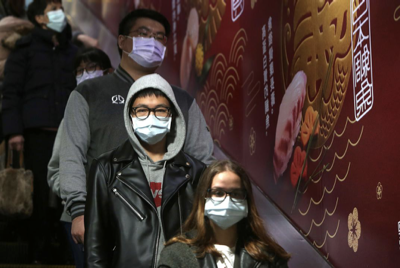with_mask: (121, 24, 167, 70), (204, 184, 248, 230), (130, 101, 173, 143), (74, 61, 106, 85), (41, 4, 65, 33)
